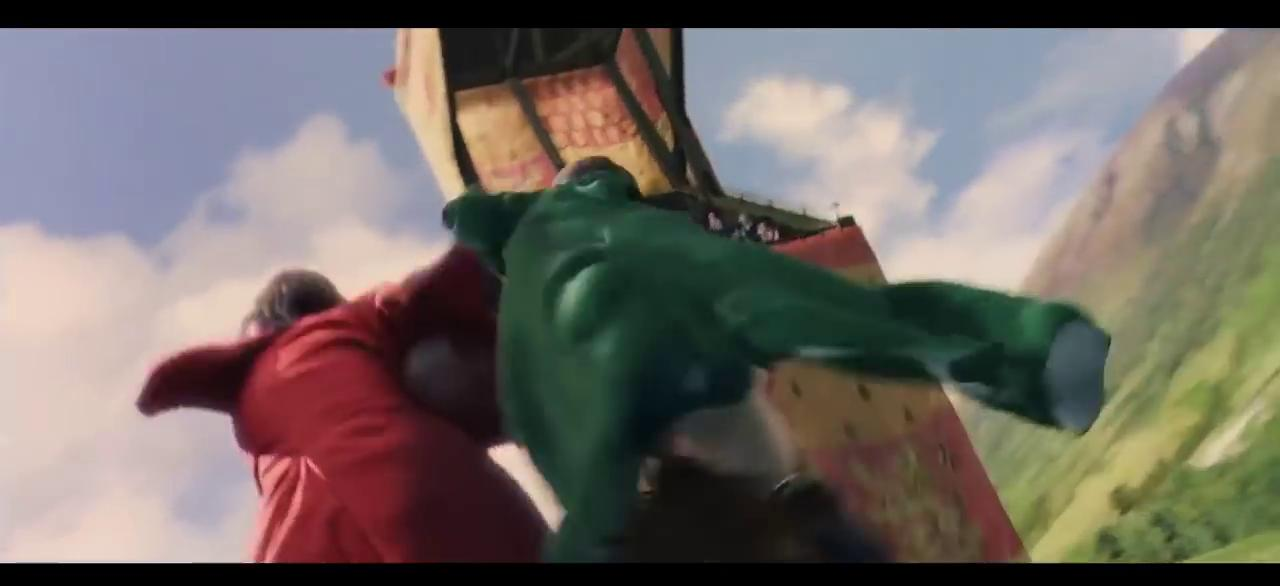quaffle: (407, 331, 501, 429)
